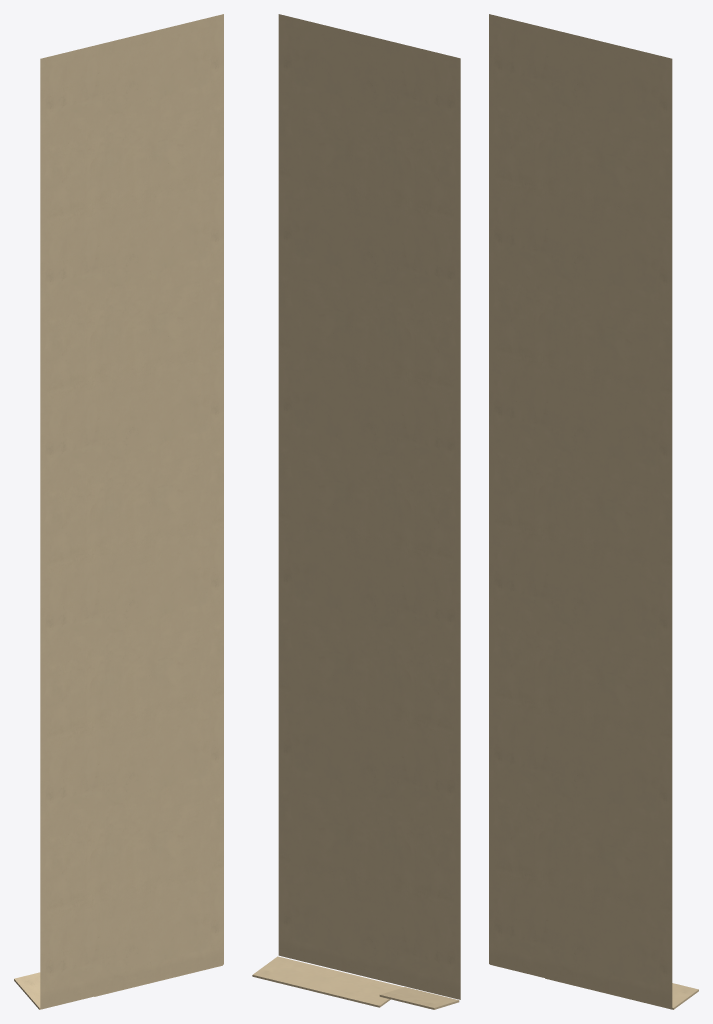
File: rug-receivers-link-west-upper.glb
The picture shows the model from 3 angles, left to right: view 1: azimuth 30°, elevation 25°; view 2: azimuth 150°, elevation 25°; view 3: azimuth 330°, elevation 25°; orthographic projection.
Visible parts, largest first — view 1: bz06_cream_plaster-cast; view 2: bz06_cream_plaster-cast; view 3: bz06_cream_plaster-cast.
Part boxes in pixels (bbox=[...]): bz06_cream_plaster-cast: bbox=[14, 14, 223, 1009]; bz06_cream_plaster-cast: bbox=[252, 14, 460, 1009]; bz06_cream_plaster-cast: bbox=[489, 14, 698, 1009].
Bounding box in the file's own units: 2 × 9.92 × 0.5.
1 material, 1 textured.
